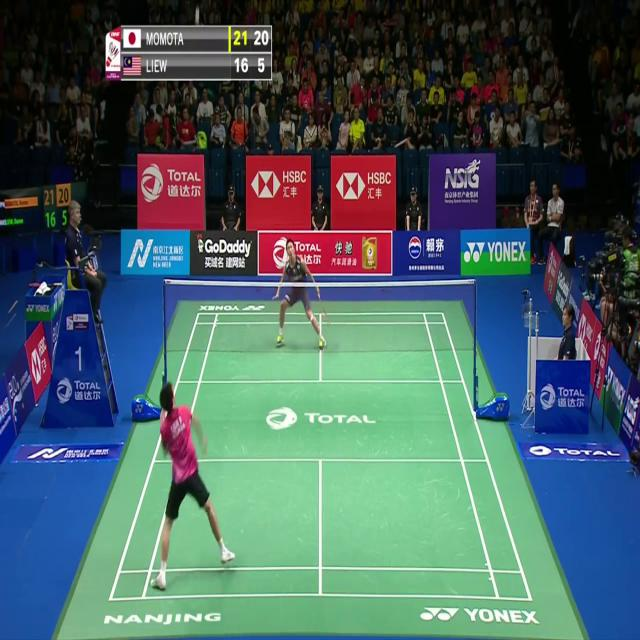Shuttlecock: (194, 10, 200, 22)
